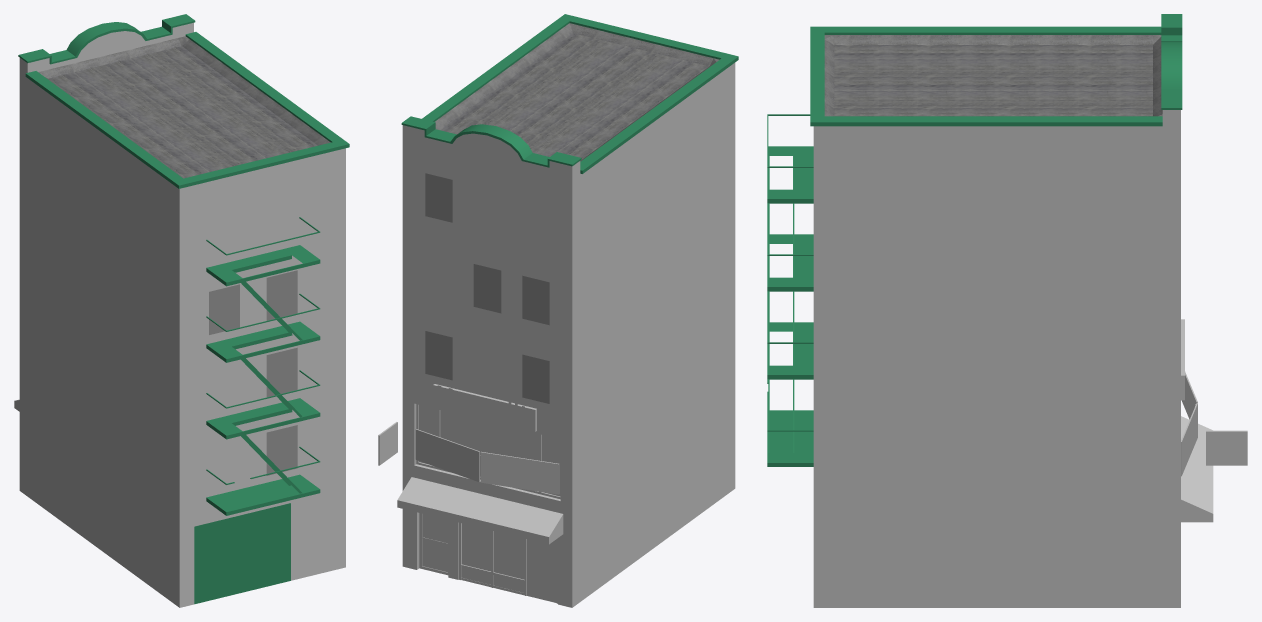
File: mcp_building_20_LOD_1.FBX
3 renders of one model, left to right at view 1: azimuth 30°, elevation 25°; view 2: azimuth 150°, elevation 25°; view 3: azimuth 270°, elevation 25°, orthographic. The views are drawn at different scales.
Parts seen in each view (by area): view 1: mcp_building_20_walls, mcp_building_20_roof, mcp_building_20_props_01, mcp_building_20, mcp_building_20_concrete; view 2: mcp_building_20_walls, mcp_building_20, mcp_building_20_roof, mcp_building_20_concrete; view 3: mcp_building_20_walls, mcp_building_20_roof, mcp_building_20_concrete, mcp_building_20_props_01, mcp_building_20.
Boxes of the visible parts, x1,y1,x2,y2 form: mcp_building_20_walls: (19, 22, 345, 607); mcp_building_20_roof: (38, 36, 330, 178); mcp_building_20_props_01: (194, 217, 320, 604); mcp_building_20: (14, 193, 297, 489); mcp_building_20_concrete: (18, 14, 349, 188); mcp_building_20_walls: (402, 62, 735, 607); mcp_building_20: (378, 173, 563, 603); mcp_building_20_roof: (435, 23, 719, 161); mcp_building_20_concrete: (401, 14, 738, 173); mcp_building_20_walls: (813, 110, 1180, 607); mcp_building_20_roof: (824, 35, 1162, 116); mcp_building_20_concrete: (810, 14, 1182, 126); mcp_building_20_props_01: (767, 114, 813, 466); mcp_building_20: (1181, 319, 1247, 522).
Size of the model in its own units: 818 by 2045 by 1736.
